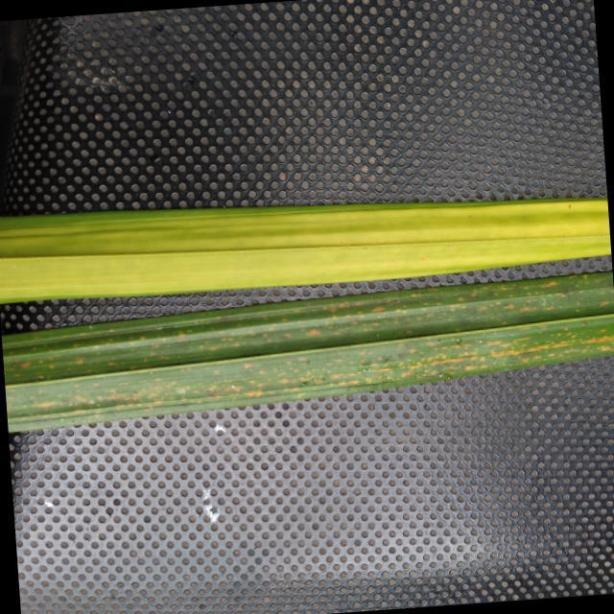nitrogen: (0, 200, 614, 305)
